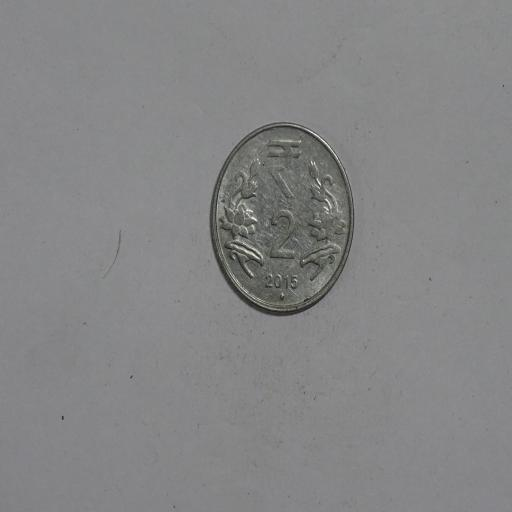rupee2: (208, 122, 355, 316)
